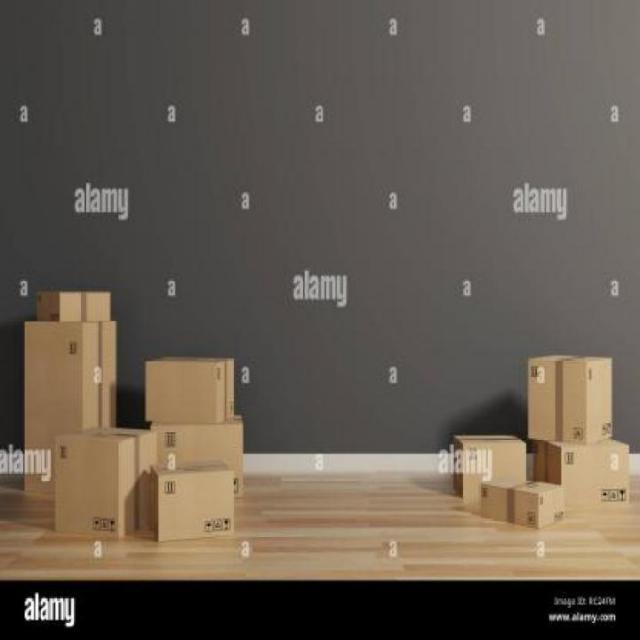box: (15, 310, 126, 507), (50, 426, 158, 562), (148, 415, 270, 503), (518, 348, 620, 450), (534, 440, 638, 524), (150, 462, 247, 550), (142, 348, 248, 426), (474, 462, 568, 540), (443, 428, 538, 502), (34, 280, 118, 328)
